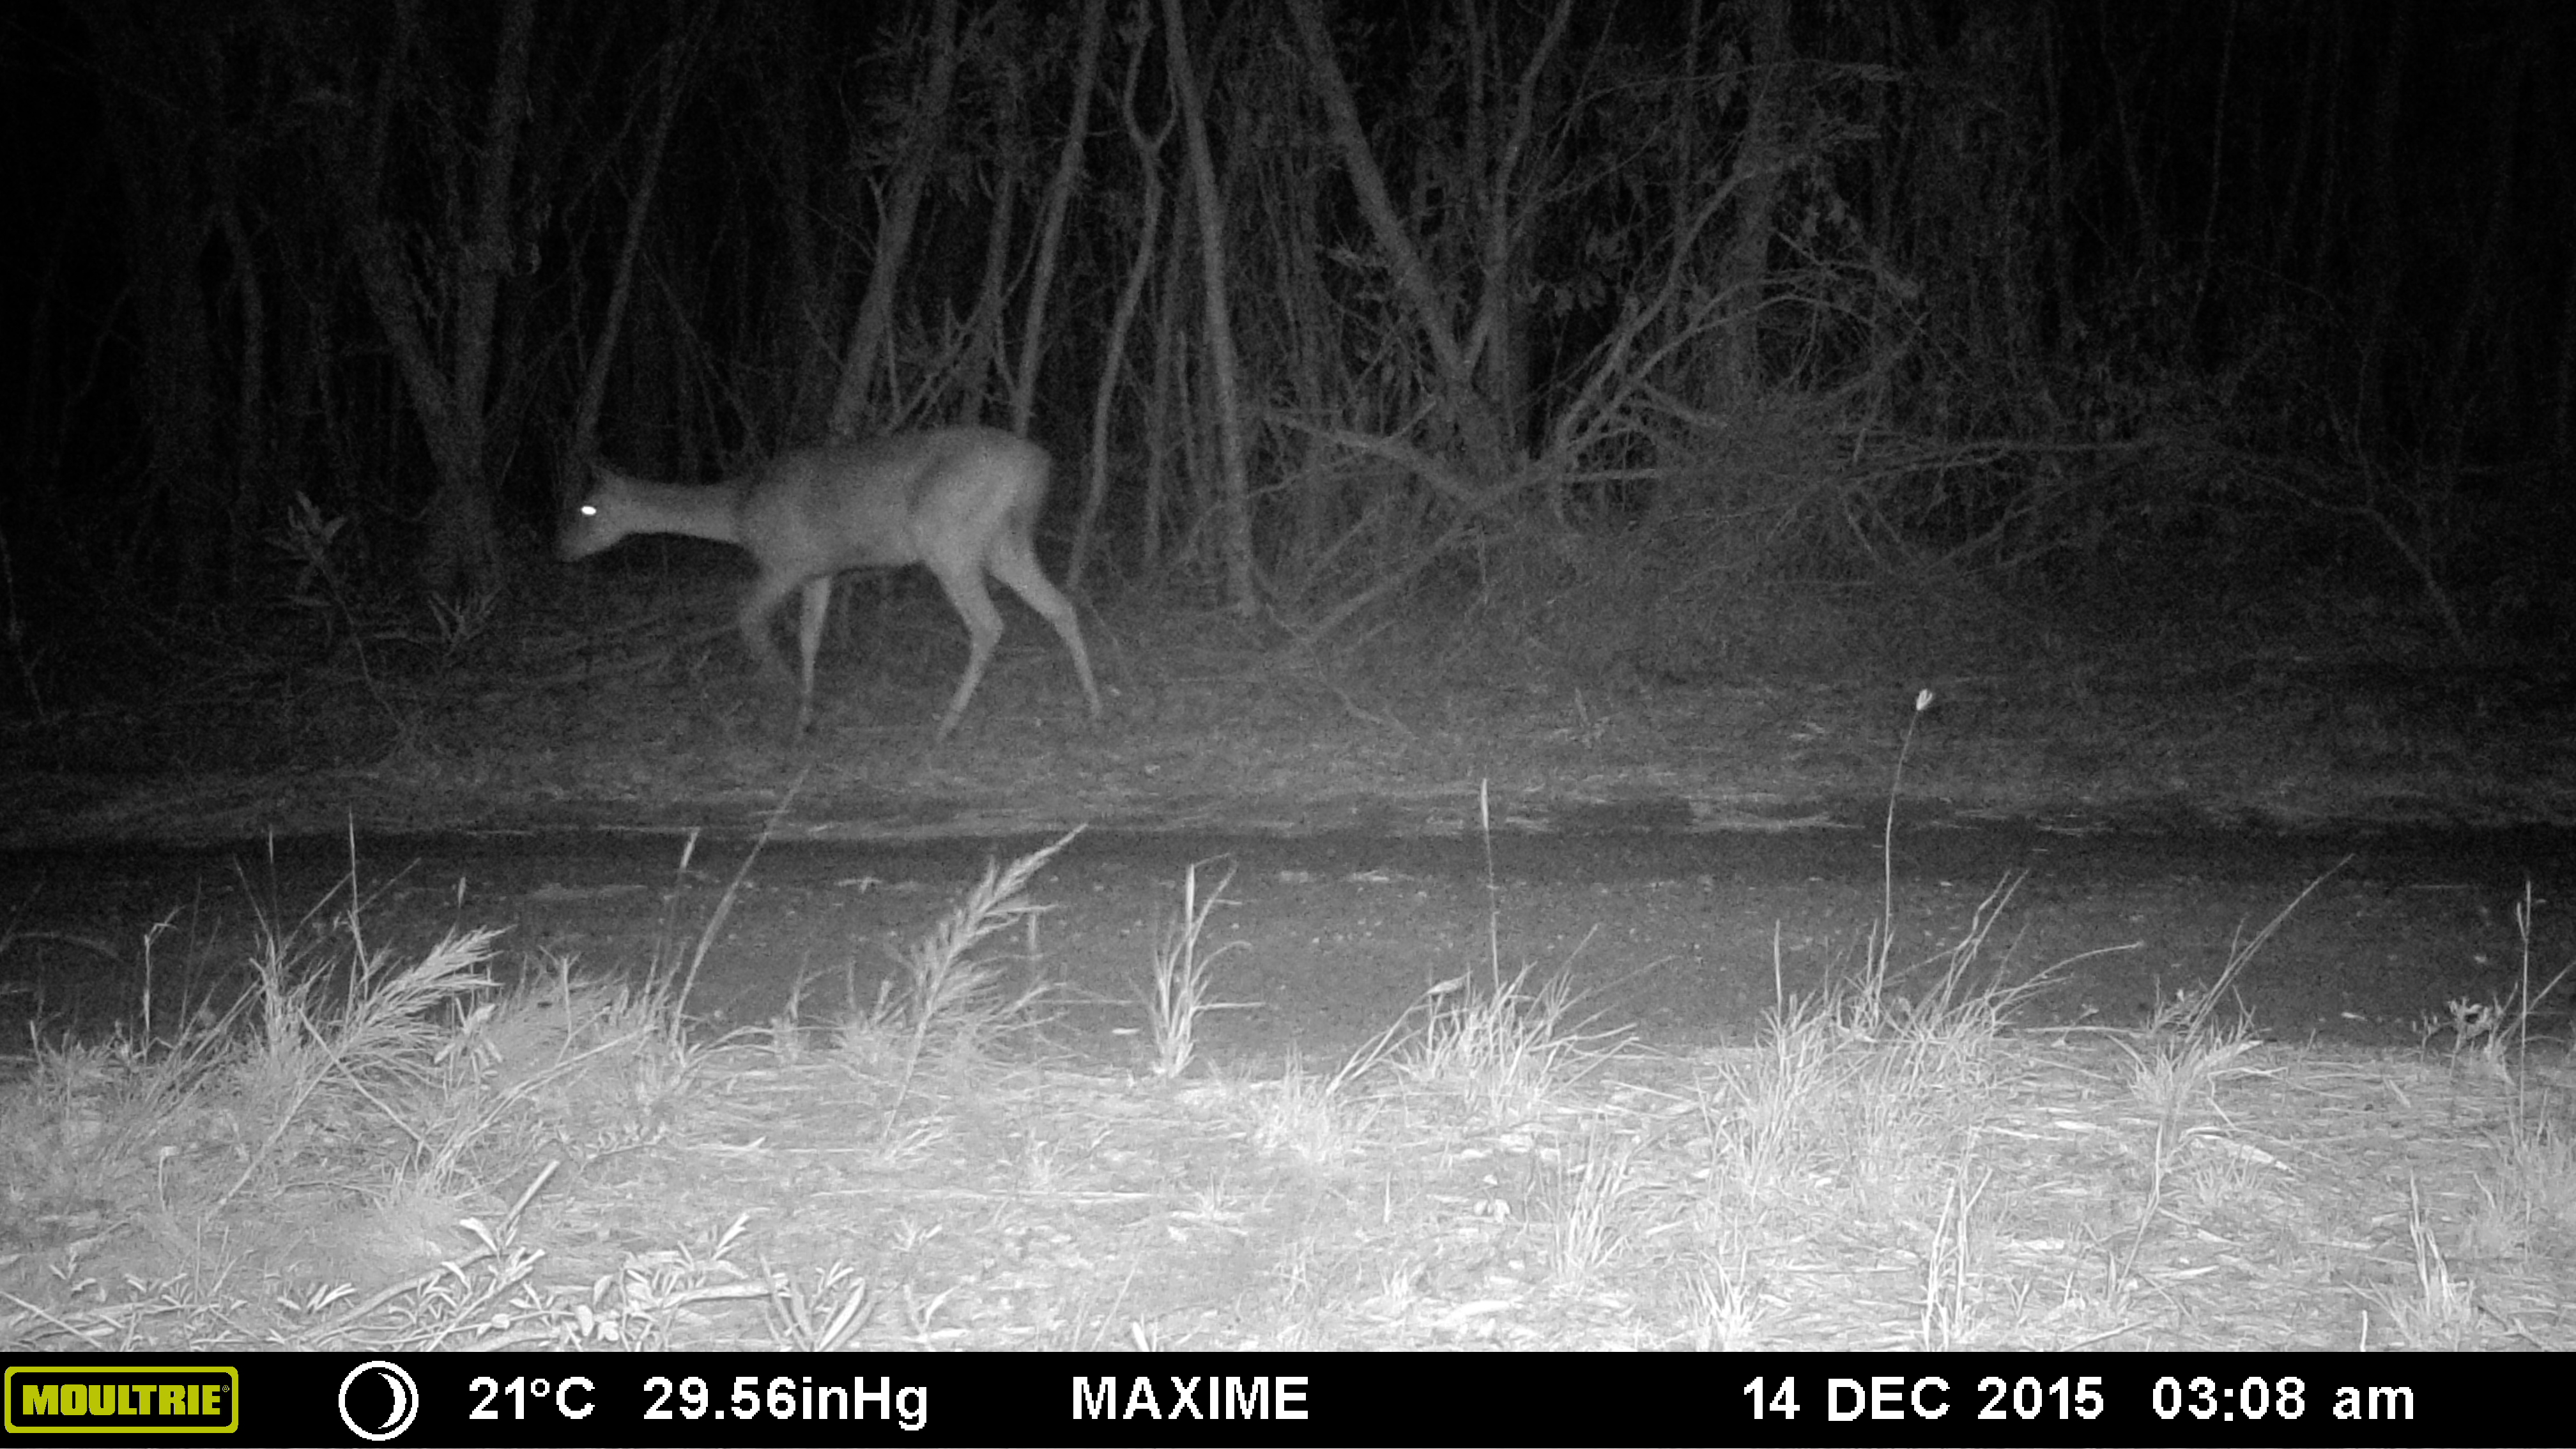Deer: (548, 425, 1092, 761)
